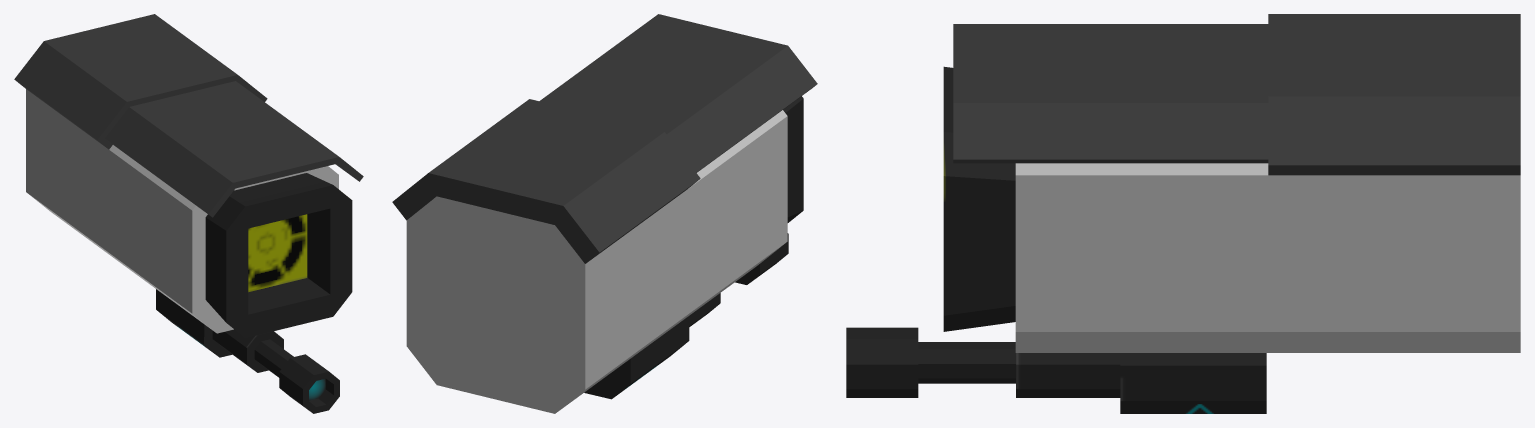
The model's file is Camera_Wall_Main.fbx.
3 renders of one model, left to right at view 1: azimuth 30°, elevation 25°; view 2: azimuth 150°, elevation 25°; view 3: azimuth 270°, elevation 25°, orthographic. The views are drawn at different scales.
Parts seen in each view (by area): view 1: polySurface32; view 2: polySurface32; view 3: polySurface32.
Boxes of the visible parts, x1,y1,x2,y2 form: polySurface32: (14,14,363,413); polySurface32: (392,14,817,413); polySurface32: (846,14,1520,413).
Bounding box in the file's own units: 102 × 132 × 230.
1 material, 1 textured.
